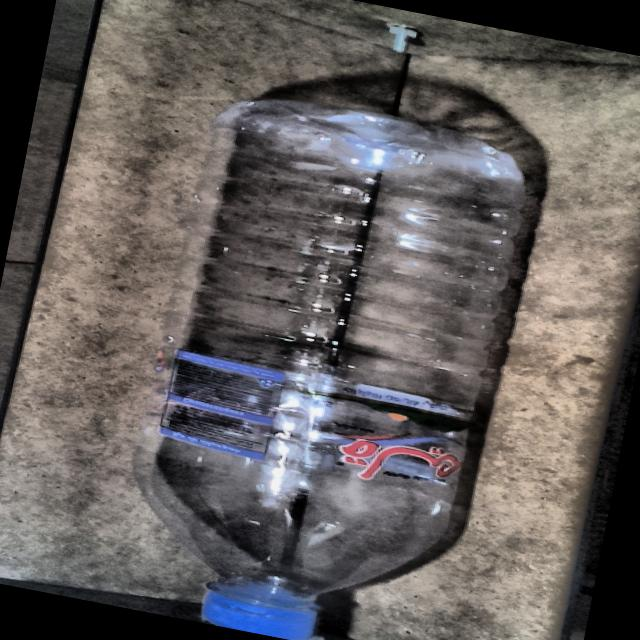plastic bottle: (136, 99, 526, 640)
